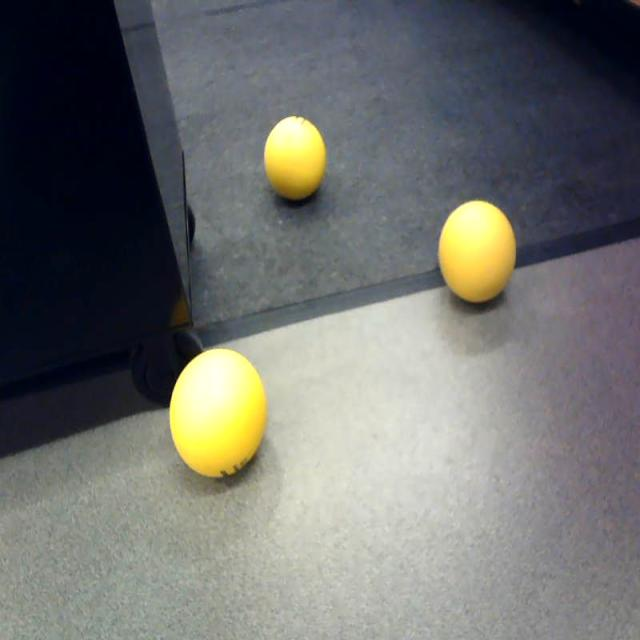Fuel: (170, 350, 267, 478), (439, 200, 515, 301), (264, 116, 326, 200)
